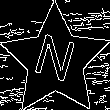N_S: (30, 31, 81, 90)
